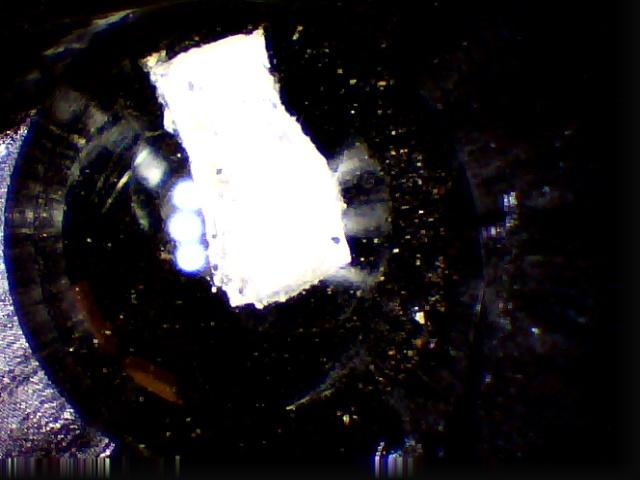megot: (113, 17, 366, 320)
